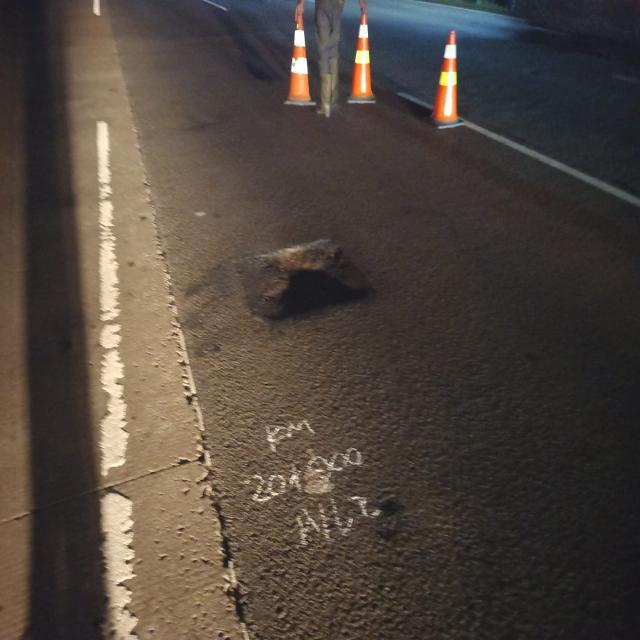Buraco: (230, 236, 378, 328), (240, 56, 276, 82)
